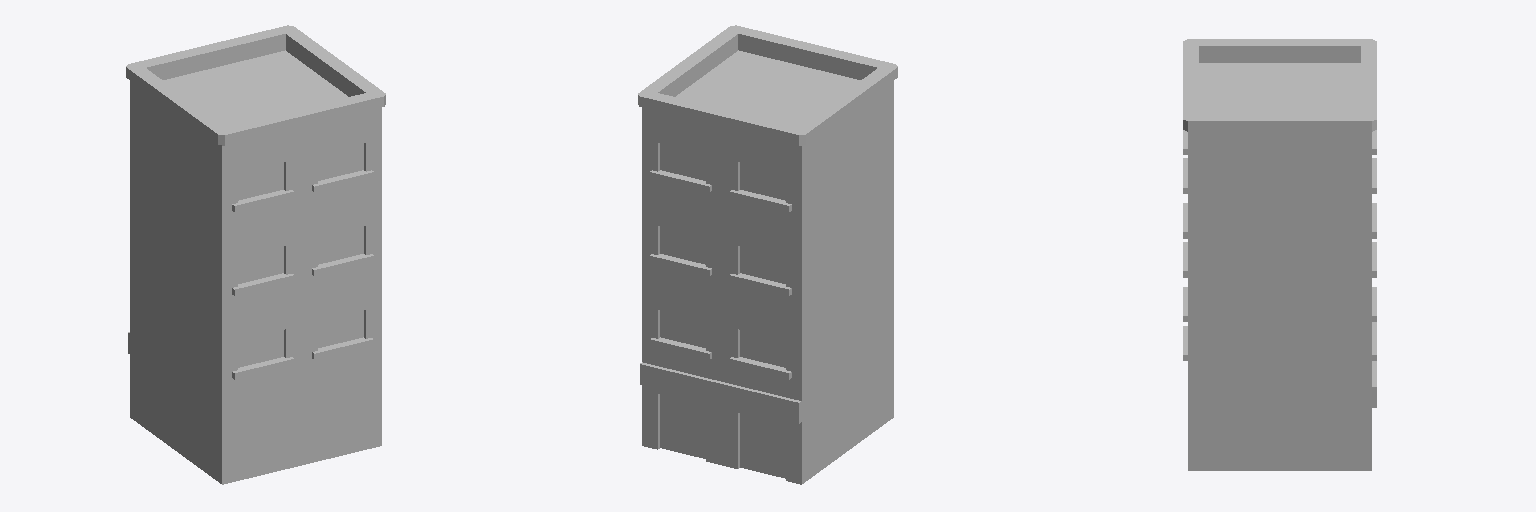
Rendered from large_buildingB.obj.
The picture shows the model from 3 angles: view 1: azimuth 30°, elevation 25°; view 2: azimuth 150°, elevation 25°; view 3: azimuth 270°, elevation 25°; orthographic projection.
Visible parts, largest first — view 1: large_buildingB; view 2: large_buildingB; view 3: large_buildingB.
Boxes of the visible parts, x1,y1,x2,y2 form: large_buildingB: [126, 25, 385, 484]; large_buildingB: [638, 25, 897, 484]; large_buildingB: [1183, 39, 1376, 470].
Size of the model in its own units: 0.84 by 1.68 by 0.84.